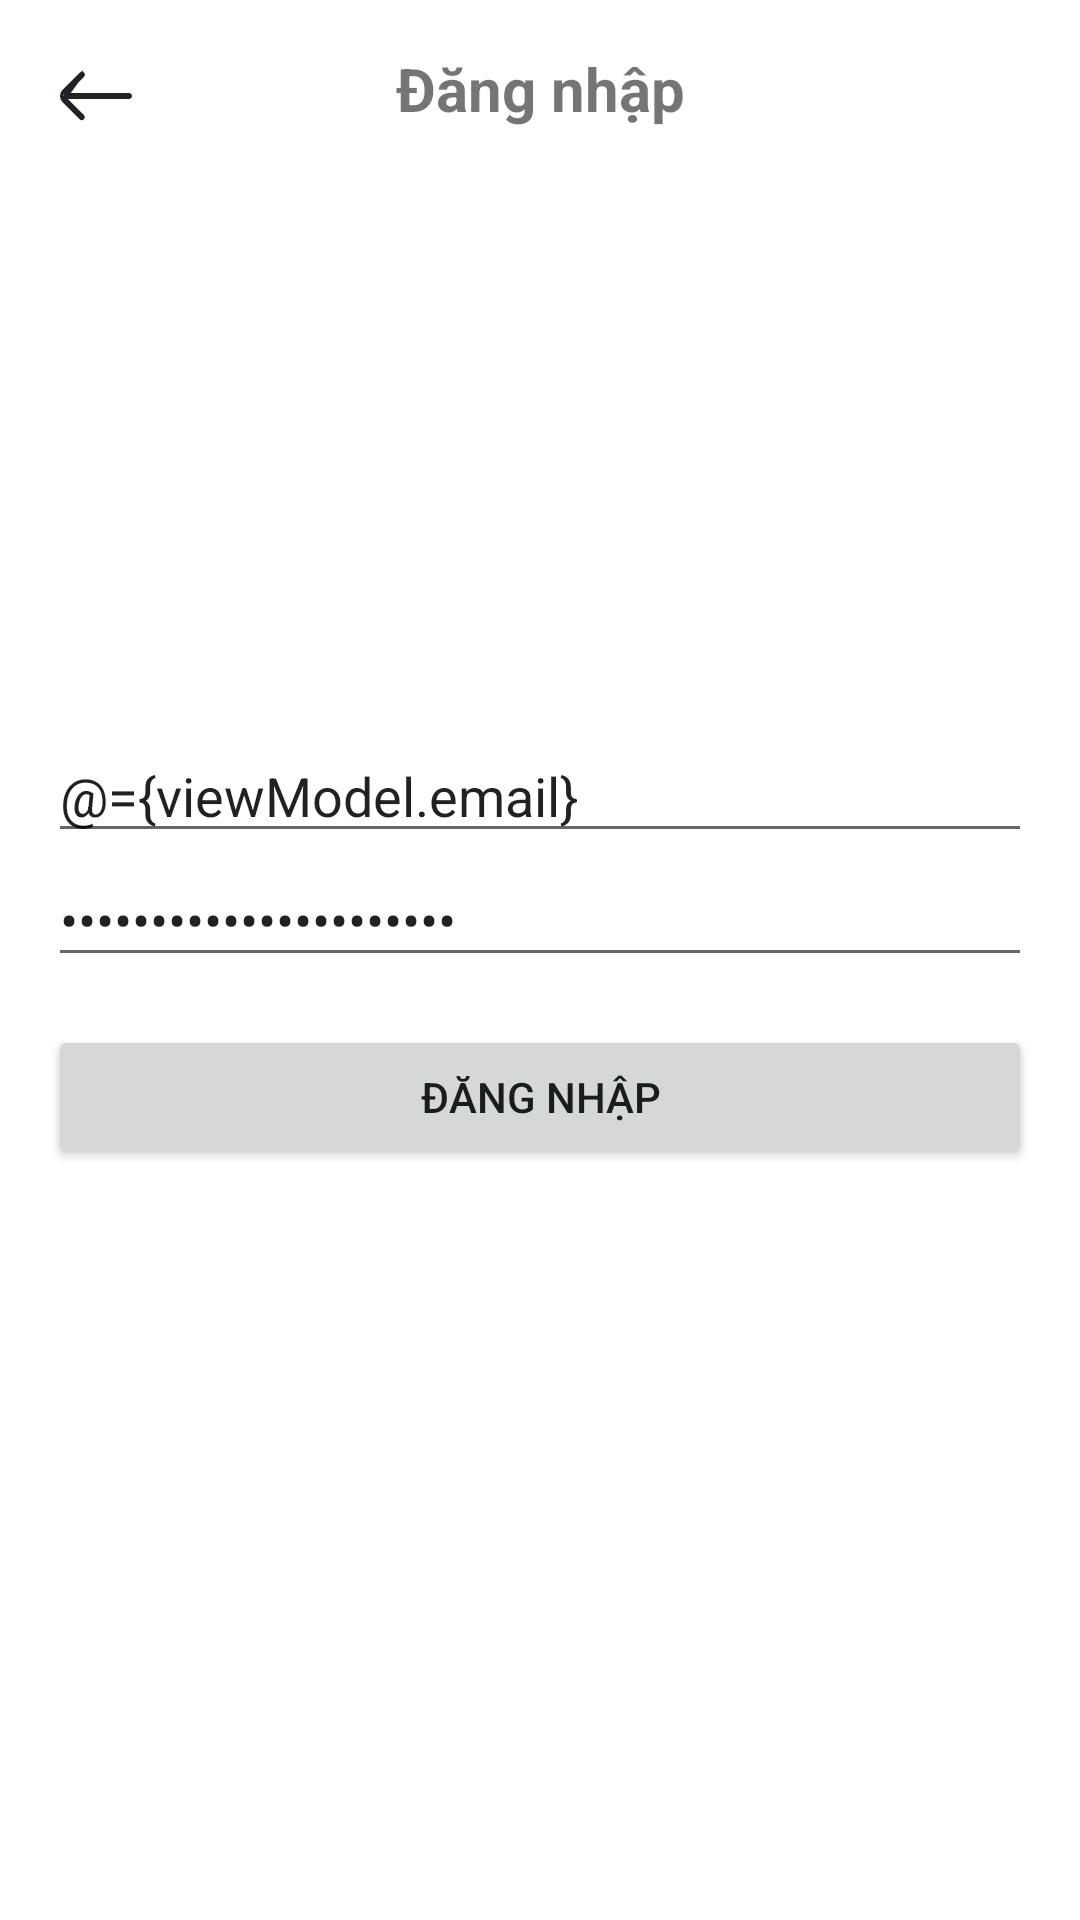

Named icons in this screenshot (1080px x 1920px) and their bounding boxes, (x1, y1, x2, y2):
back: (60, 70, 132, 121)
